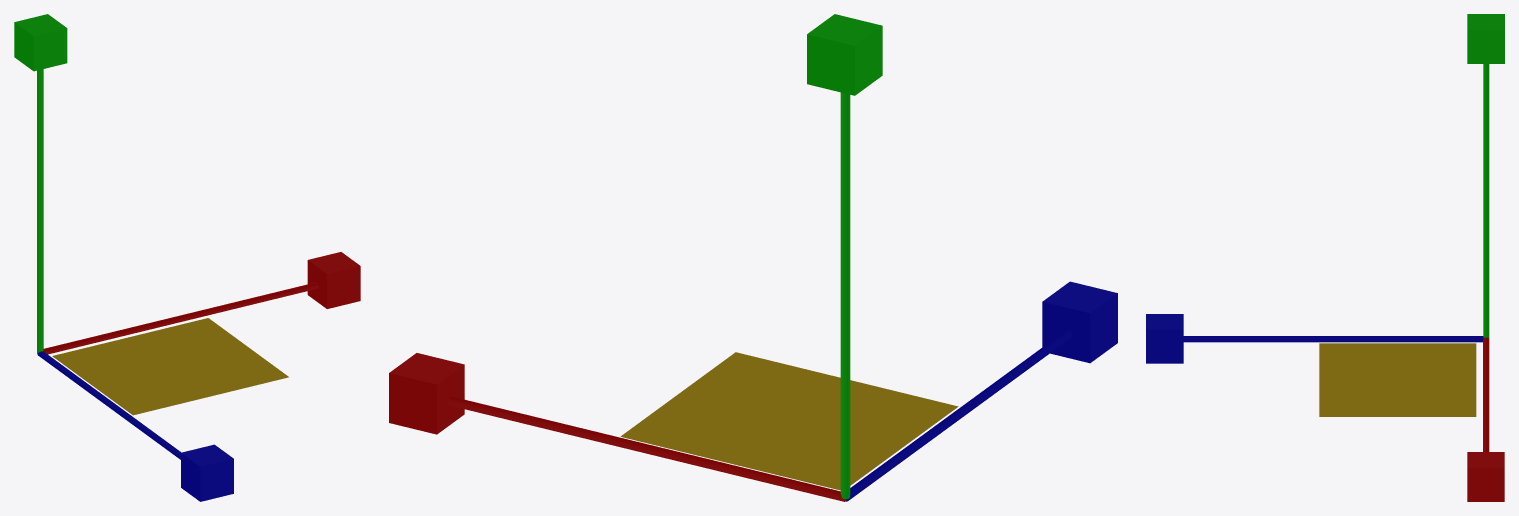
Rendered from ArrowScale.dae.
3 renders of one model, left to right at view 1: azimuth 30°, elevation 25°; view 2: azimuth 150°, elevation 25°; view 3: azimuth 270°, elevation 25°, orthographic. The views are drawn at different scales.
Parts seen in each view (by area): view 1: XYZ, YAXIS, XAXIS, ZAXIS; view 2: XYZ, YAXIS, XAXIS, ZAXIS; view 3: XYZ, ZAXIS, YAXIS, XAXIS.
Boxes of the visible parts, bbox=[...] form: XYZ: bbox=[52, 318, 288, 415]; YAXIS: bbox=[14, 14, 67, 353]; XAXIS: bbox=[43, 252, 360, 354]; ZAXIS: bbox=[37, 351, 233, 501]; XYZ: bbox=[620, 352, 958, 490]; YAXIS: bbox=[807, 14, 882, 499]; XAXIS: bbox=[389, 353, 845, 501]; ZAXIS: bbox=[845, 281, 1117, 501]; XYZ: bbox=[1319, 343, 1476, 416]; ZAXIS: bbox=[1146, 314, 1483, 363]; YAXIS: bbox=[1467, 14, 1504, 338]; XAXIS: bbox=[1467, 337, 1504, 501].
Bounding box in the file's own units: 1.5 × 1.48 × 1.51.
